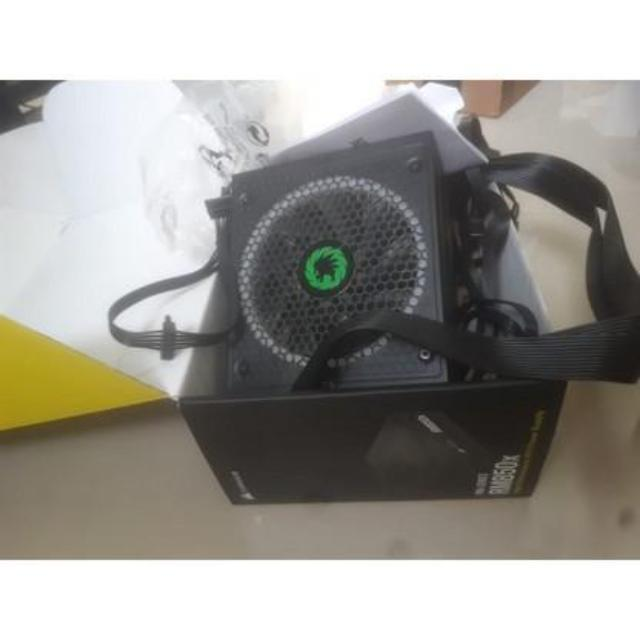PSU: (214, 144, 458, 399)
